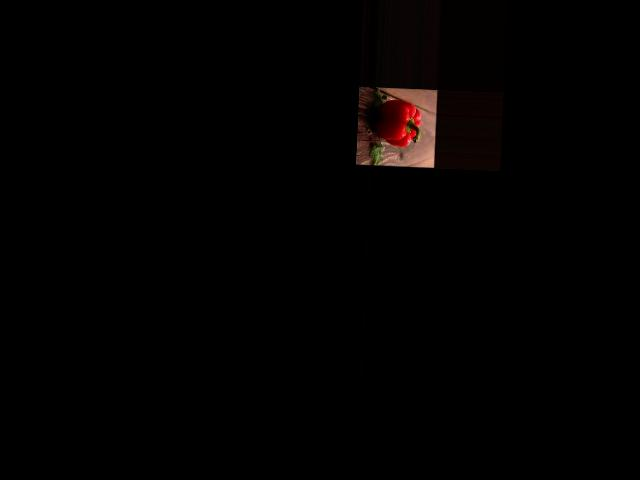bell_pepper: (373, 96, 425, 150)
